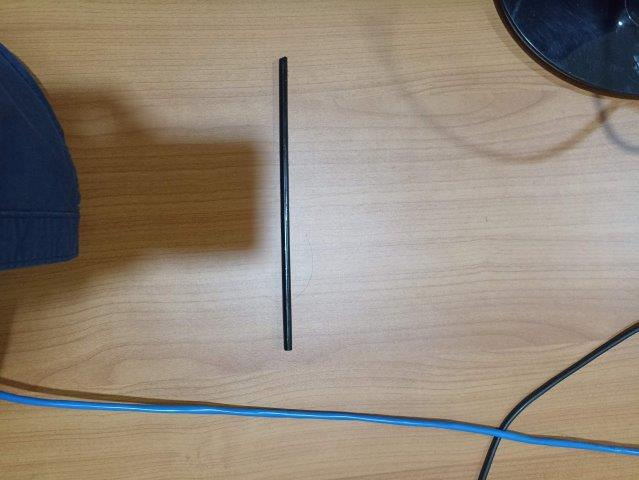sedotan: (279, 57, 292, 351)
